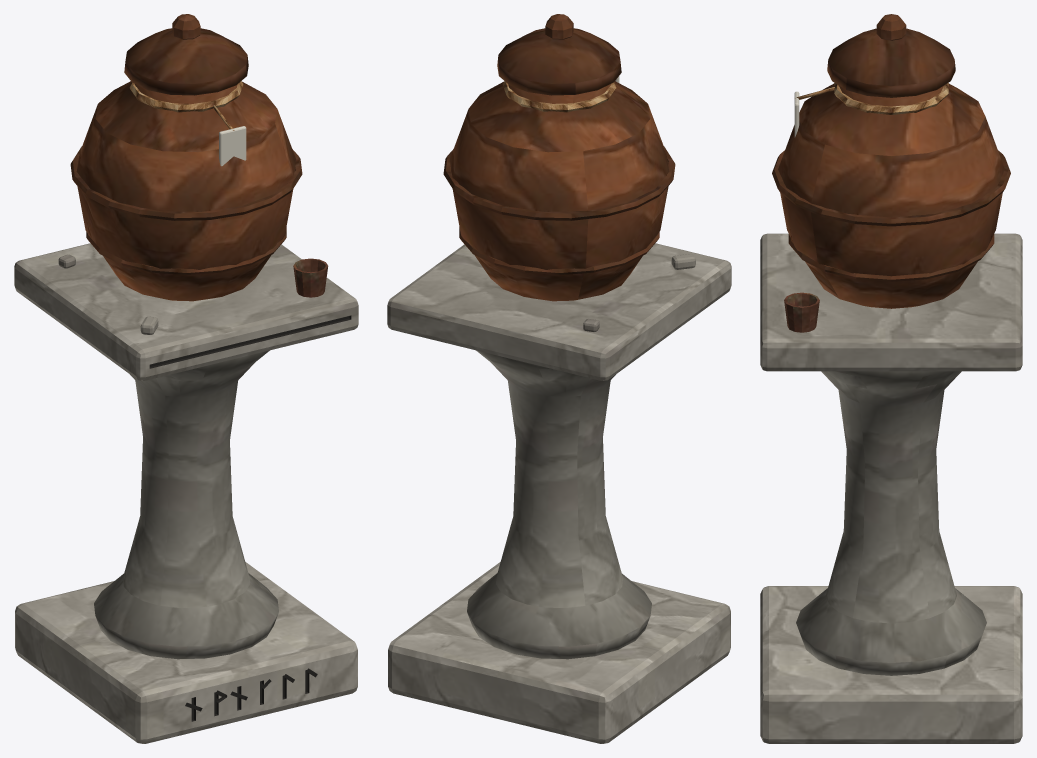
Rendered from qb_urn_pedestal.glb.
The picture shows the model from 3 angles, left to right: view 1: azimuth 30°, elevation 25°; view 2: azimuth 150°, elevation 25°; view 3: azimuth 270°, elevation 25°; orthographic projection. The views are drawn at different scales.
Parts seen in each view (by area): view 1: model; view 2: model; view 3: model.
Part boxes in pixels (left/top/right/bottom): model: left=14, top=14, right=358, bottom=743; model: left=387, top=14, right=731, bottom=743; model: left=760, top=14, right=1022, bottom=743.
Size of the model in its own units: 0.44 by 1.25 by 0.44.
Materials: 9 (7 with a texture image).
